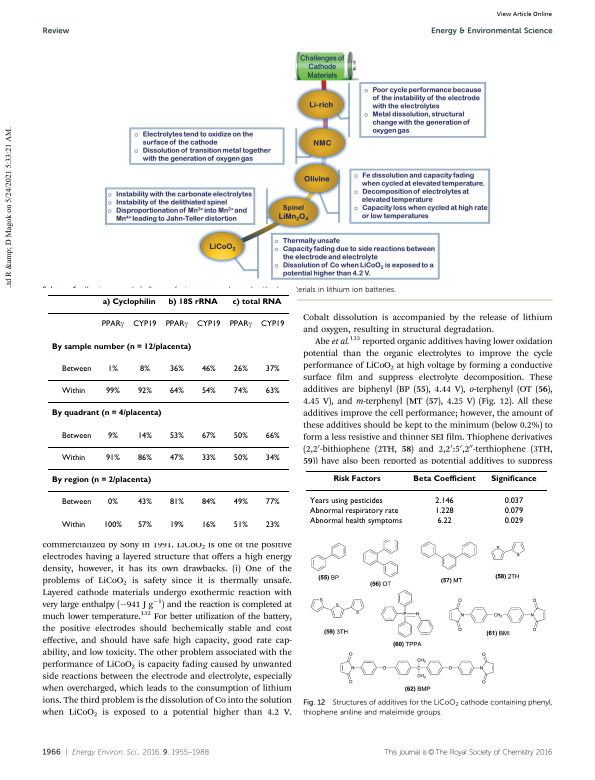borderless: (46, 293, 290, 537), (304, 469, 548, 534)
cell: (50, 342, 192, 352), (50, 409, 162, 418), (309, 516, 403, 526), (50, 476, 152, 485), (309, 506, 399, 516), (309, 496, 383, 505), (412, 474, 476, 483), (100, 309, 124, 331), (164, 309, 188, 331), (228, 309, 252, 331), (101, 298, 156, 307), (167, 298, 218, 307), (231, 298, 282, 307), (332, 474, 381, 483), (490, 474, 537, 483), (60, 364, 92, 372), (60, 431, 92, 439), (60, 498, 92, 506), (503, 506, 524, 516), (503, 516, 524, 526), (60, 453, 86, 461), (60, 520, 86, 528), (434, 506, 454, 516), (132, 320, 157, 328), (196, 320, 221, 328), (260, 320, 285, 328), (503, 496, 524, 505), (60, 387, 86, 394), (434, 496, 454, 505), (436, 516, 452, 526), (102, 520, 122, 528), (168, 364, 184, 372), (200, 364, 216, 372), (232, 364, 248, 372), (264, 364, 280, 372), (136, 431, 152, 439), (168, 431, 184, 439), (200, 431, 216, 439), (232, 431, 248, 439), (264, 431, 280, 439), (104, 453, 120, 461), (136, 453, 152, 461), (168, 453, 184, 461), (200, 453, 216, 461), (232, 453, 248, 461), (264, 453, 280, 461), (136, 498, 152, 506), (168, 498, 184, 506), (200, 498, 216, 506), (232, 498, 248, 506), (264, 498, 280, 506), (136, 520, 152, 528), (168, 520, 184, 528), (200, 520, 216, 528), (232, 520, 248, 528), (264, 520, 280, 528), (104, 387, 120, 394), (136, 387, 152, 394), (168, 387, 184, 394), (200, 387, 216, 394), (232, 387, 248, 394), (264, 387, 280, 394), (107, 364, 118, 372), (139, 364, 150, 372), (107, 431, 118, 439), (107, 498, 118, 506)
